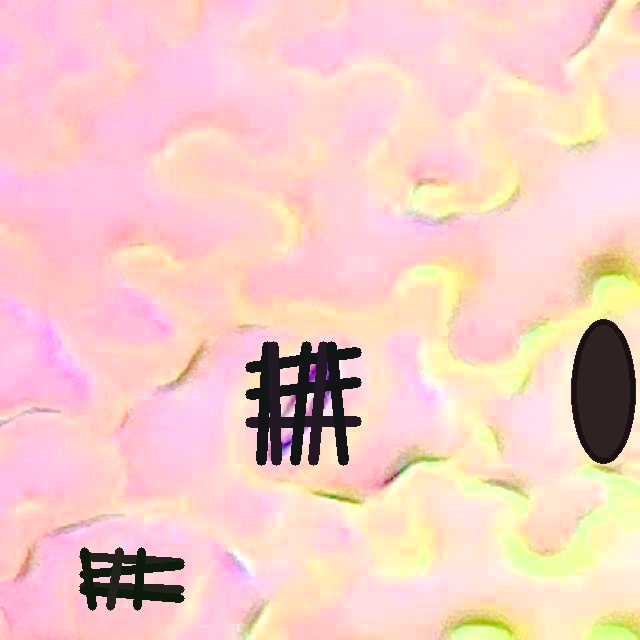close: (571, 318, 635, 463), (79, 547, 184, 610)
open: (245, 342, 361, 465)
